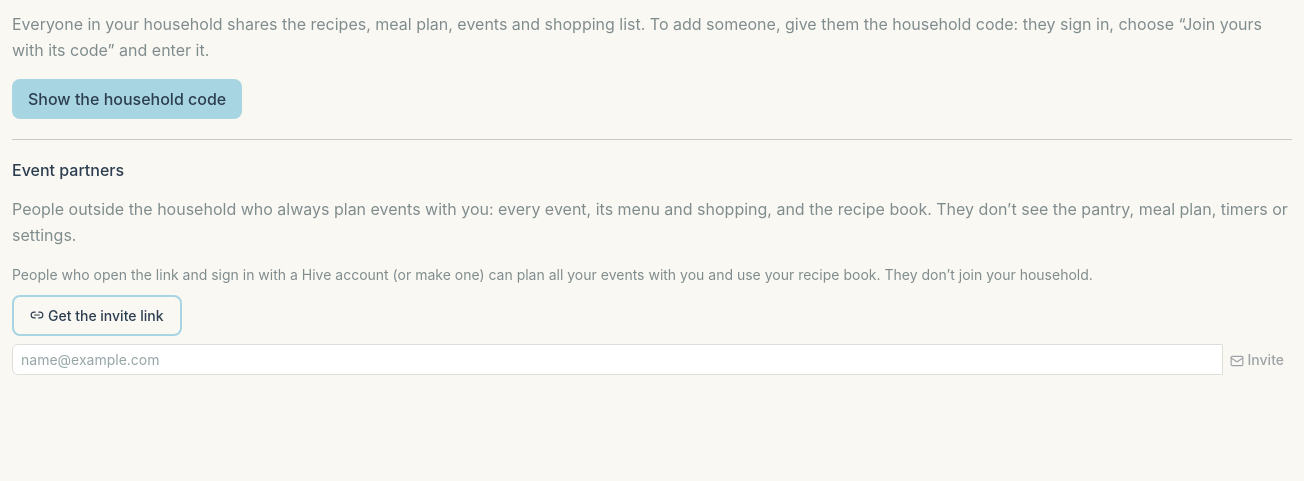
Test: tells a member who is not the owner why there is no code
The image size is (1304, 481).
Click the button "Show the household code".
click(127, 99)  # box [12,79,242,119]
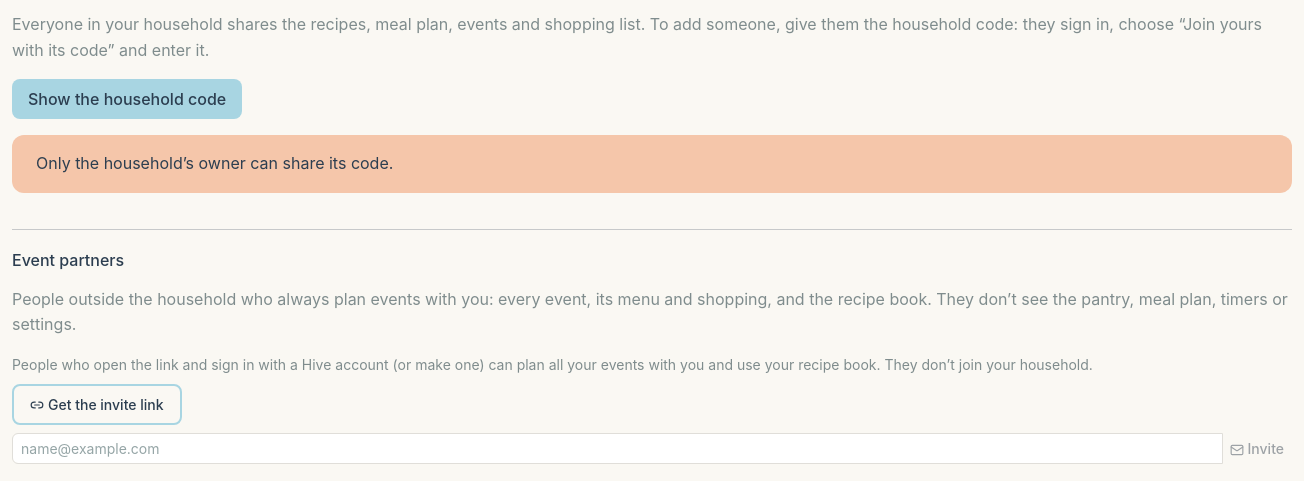
Check: the text "Only the household’s owner can share its code." is shown, box [12,135,1292,193]
